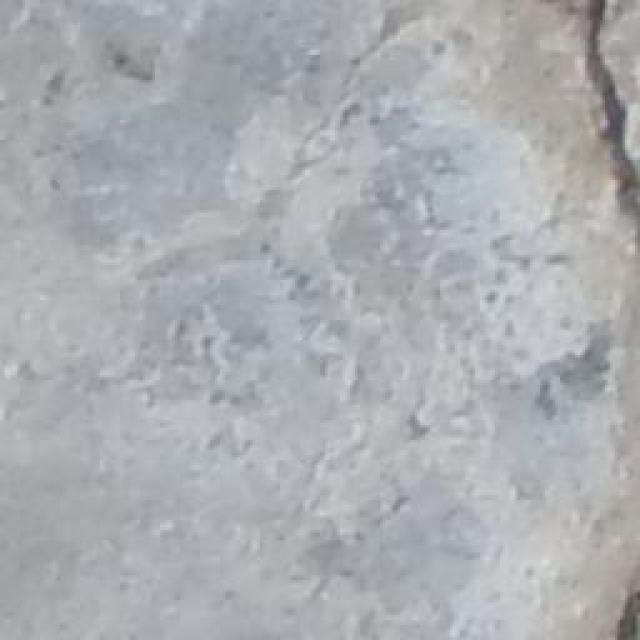concrete-crack: (579, 0, 640, 221)
